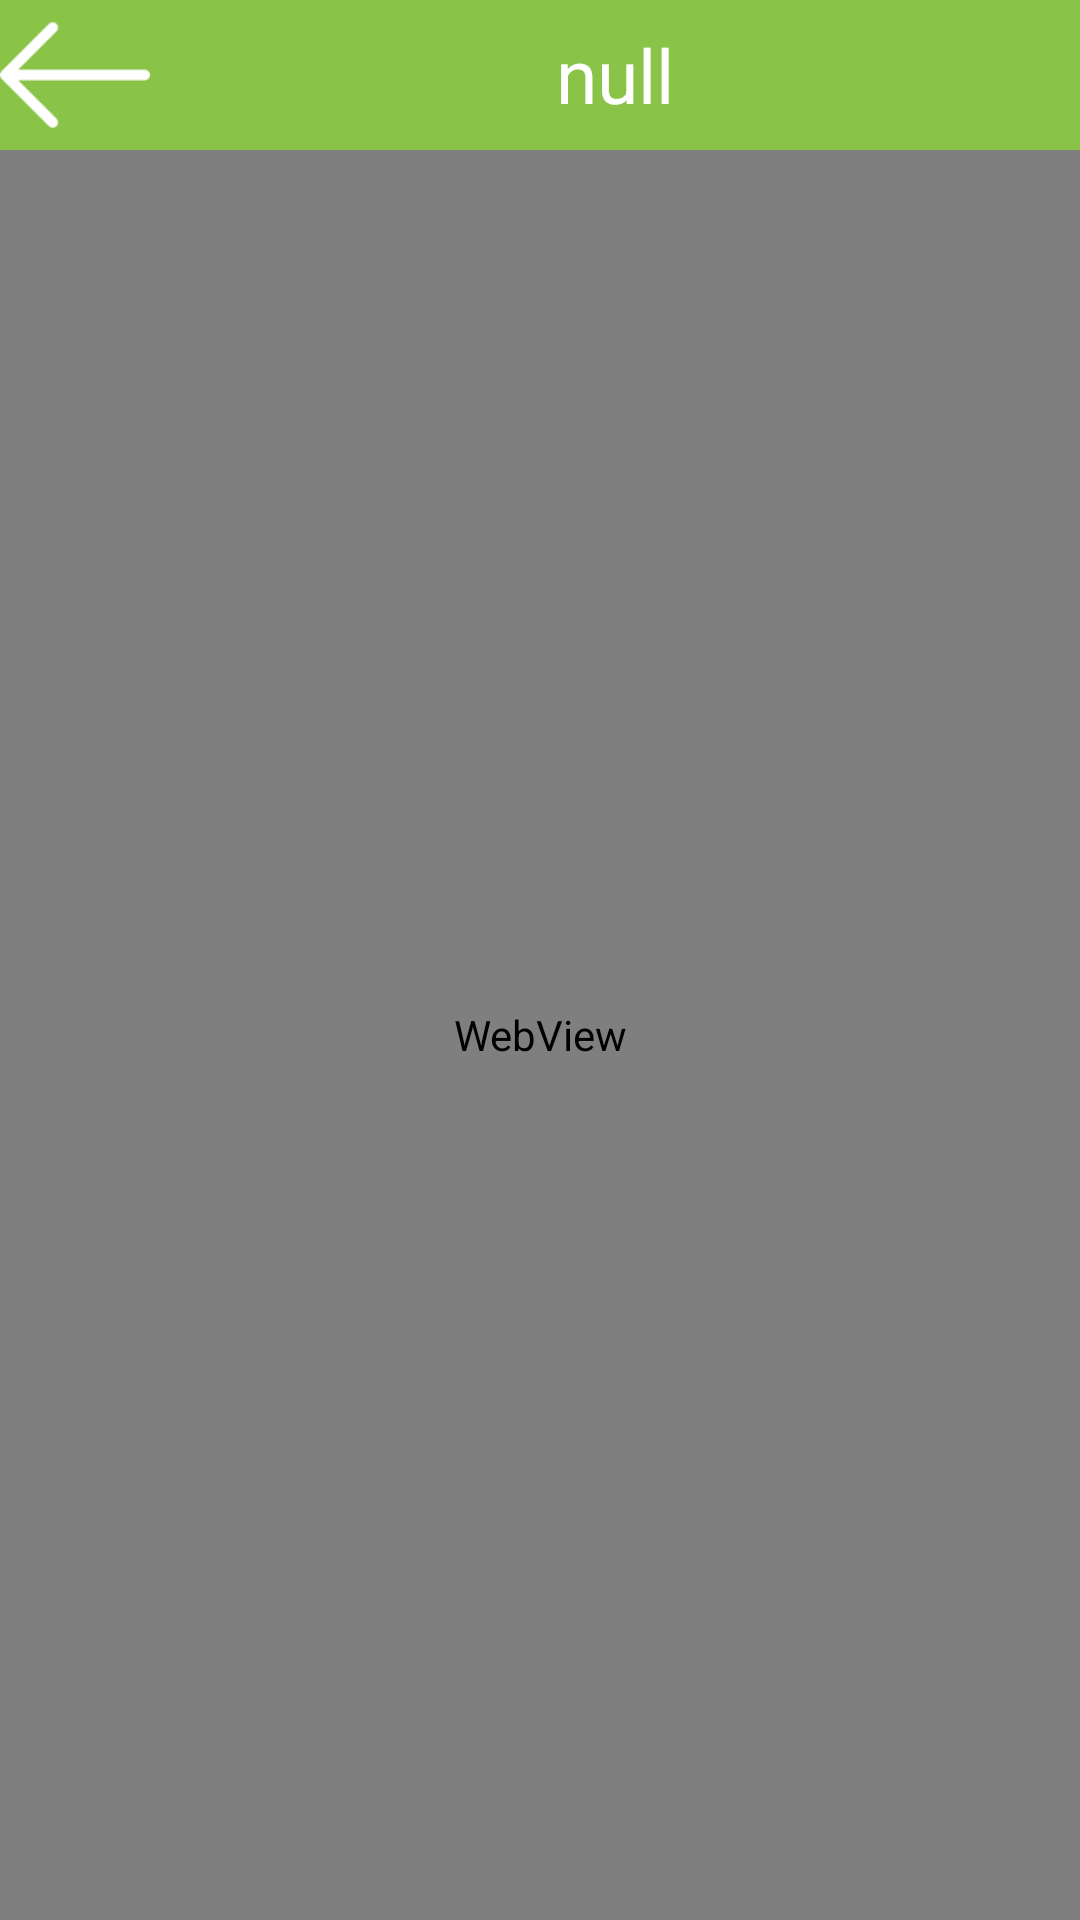

Point at icon controls on the screen. Image size 1080px x 1920px, points as [x,y].
arrow left: [75,75]
